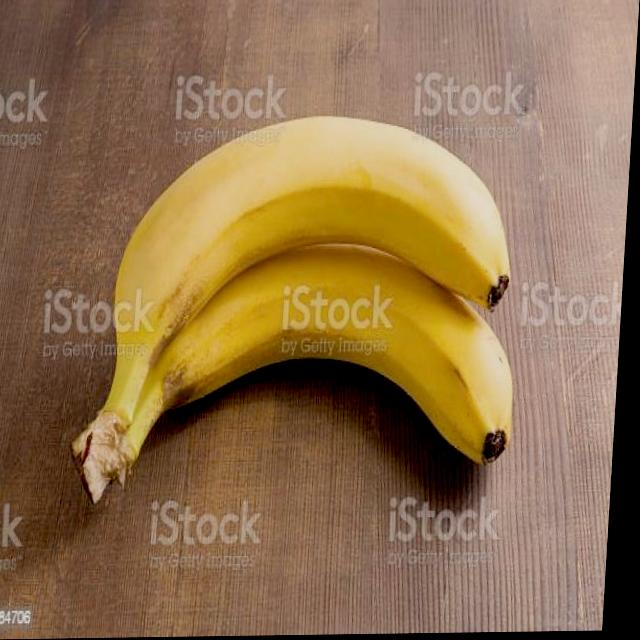banana: (64, 105, 536, 515)
